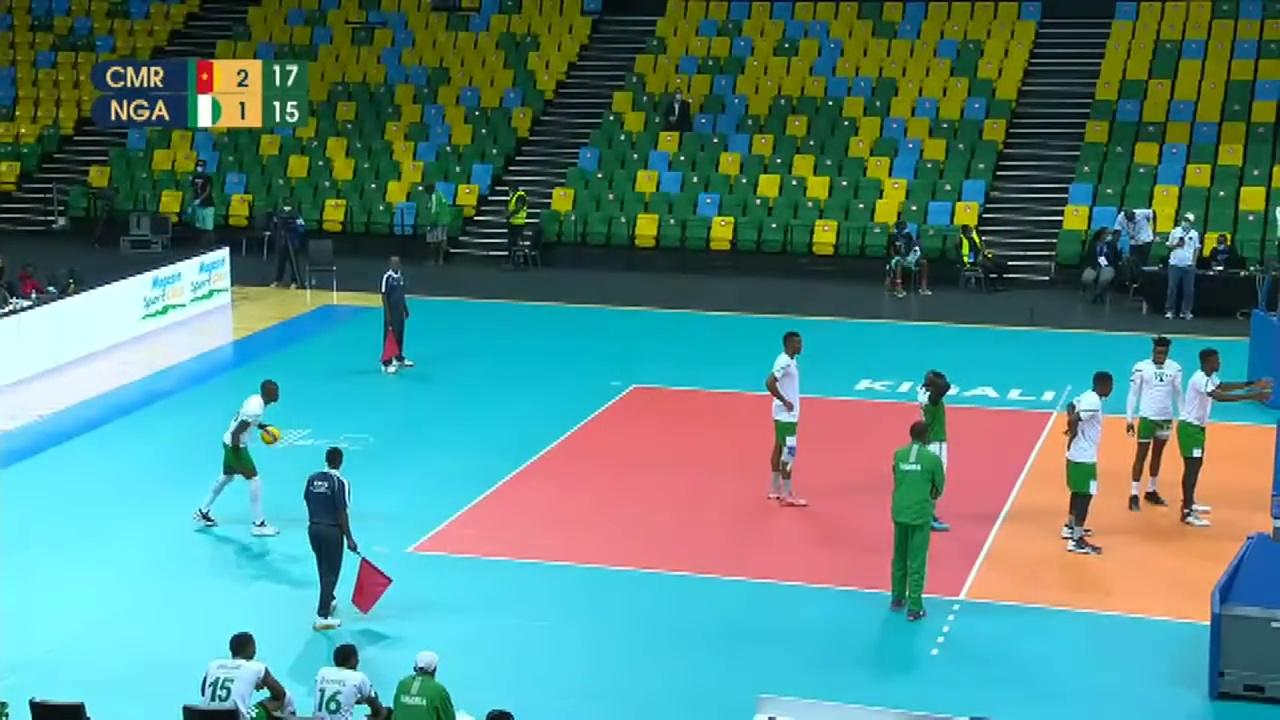player: (298, 438, 375, 638), (1184, 345, 1256, 536), (195, 385, 287, 527), (1122, 330, 1184, 506), (1059, 373, 1121, 547), (916, 365, 959, 538), (767, 334, 807, 503)
refree: (303, 448, 378, 627), (381, 254, 413, 372)
